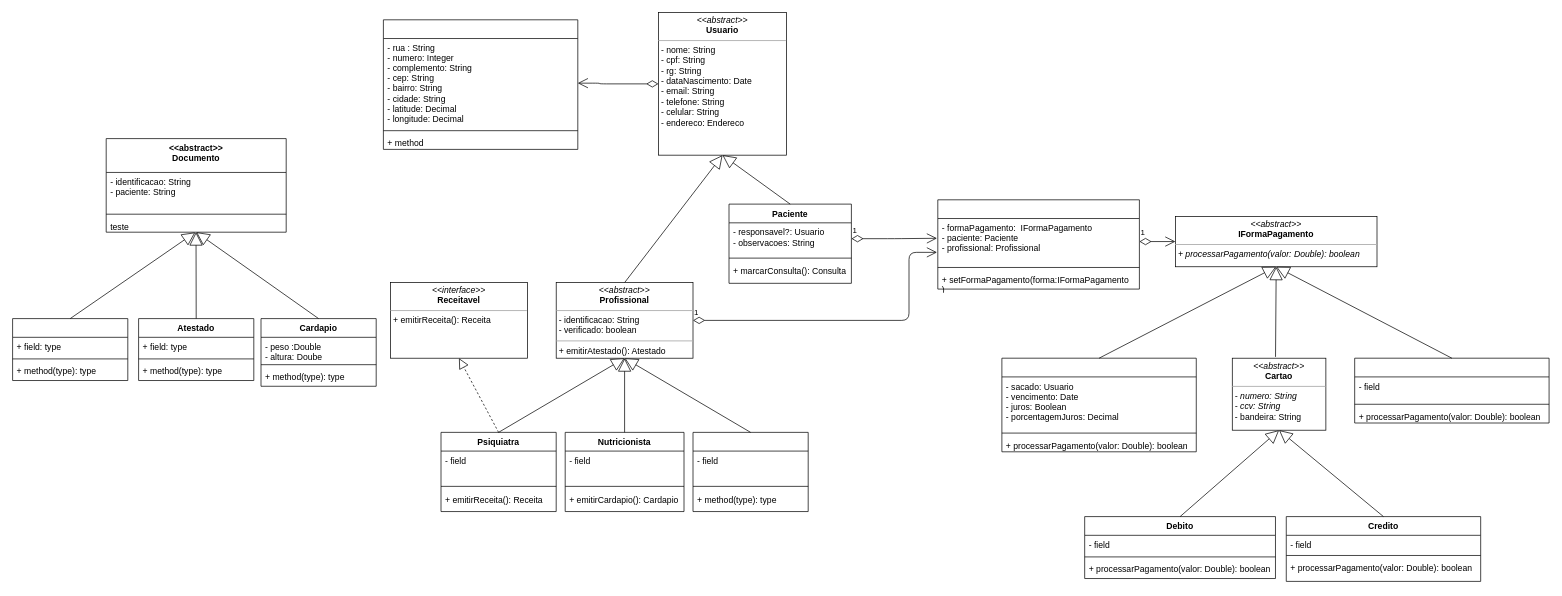
This 1562x596 diagram has some shape labels left out. The shapes that lost their labels are listed below. From the top down, each one's box as (x1, y1, x2, y2) in pixels, then its label:
(383, 19, 578, 149): Endereco
(937, 199, 1139, 289): Consulta
(12, 318, 128, 381): Receita
(1001, 357, 1196, 452): Boleto
(1354, 357, 1549, 423): Pix
(692, 432, 808, 512): Psicologo
